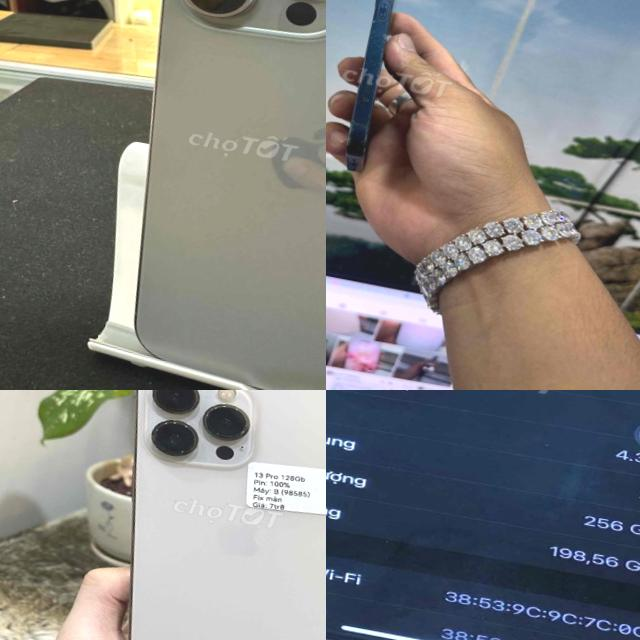gen_12_13: (81, 390, 326, 640), (329, 0, 433, 179)
gen_15: (100, 0, 326, 390)
gen_x_xs: (326, 390, 640, 640)
